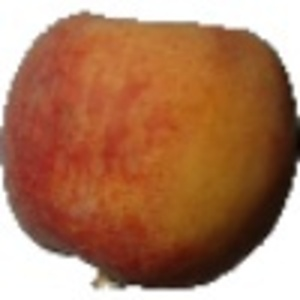pêssego: (1, 9, 300, 291)
